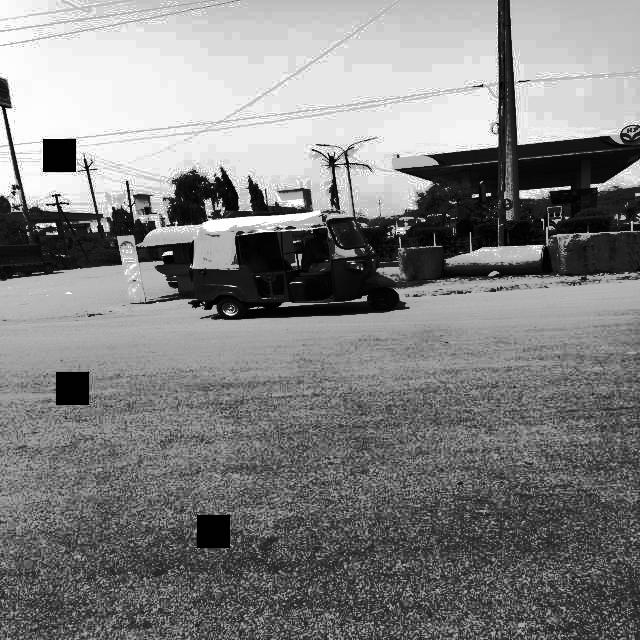Auto-Rickshaw: (186, 208, 406, 326)
